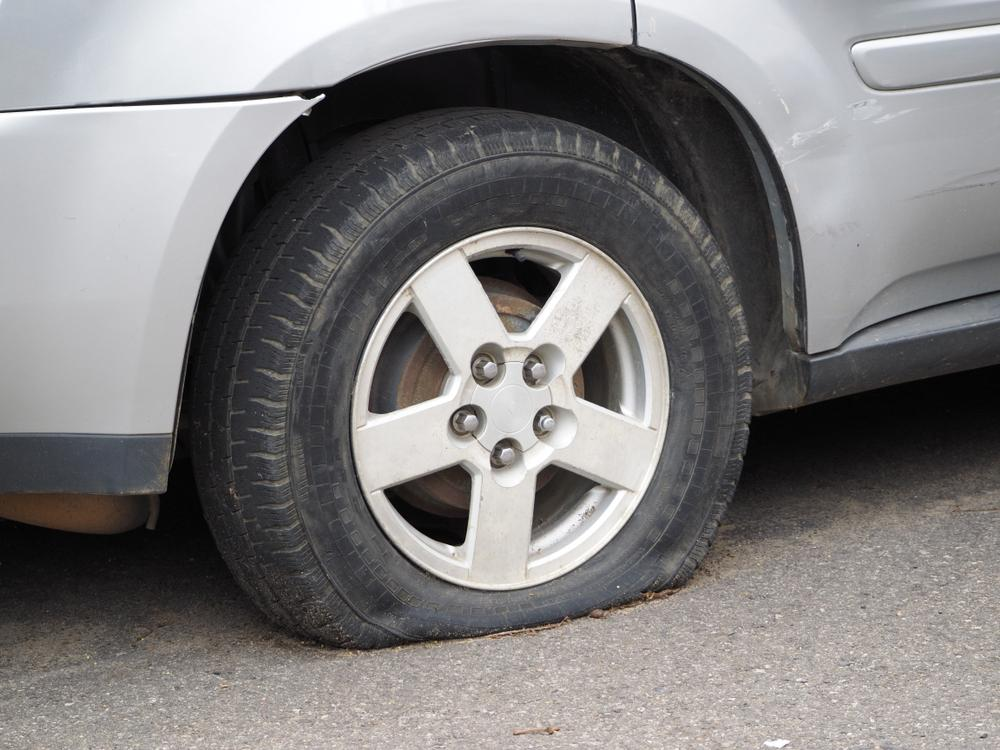scratch: (772, 95, 912, 166)
tire flat: (193, 106, 750, 653)
